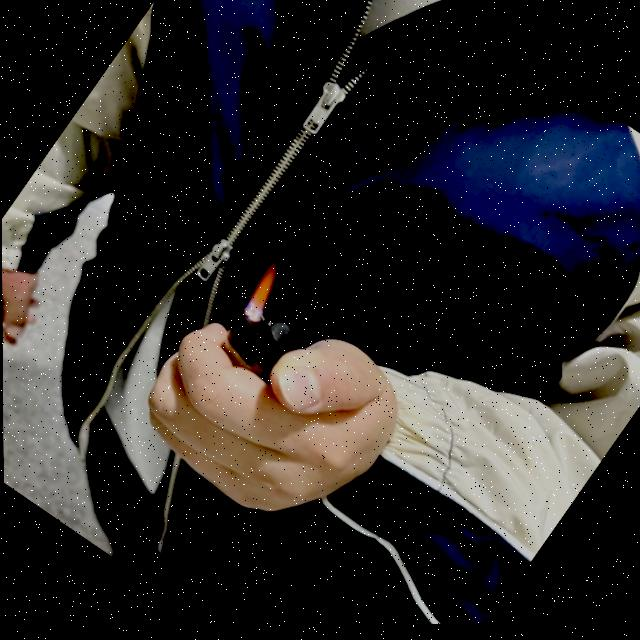Fire: (238, 259, 292, 320)
